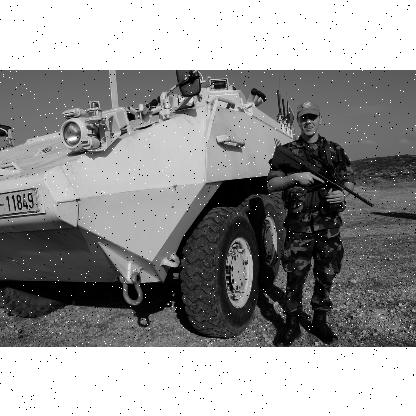gun: (290, 150, 376, 210)
